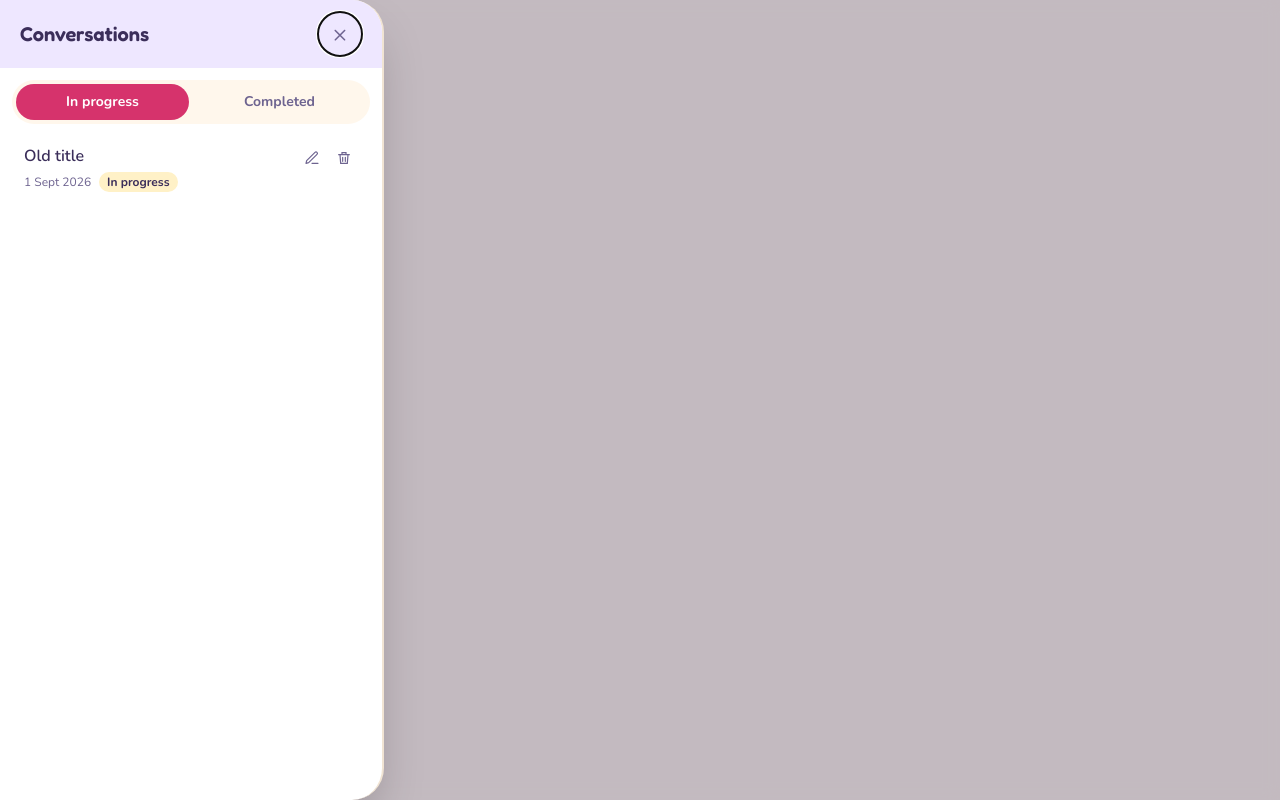
renaming › saves the new title and shows the one the server stored
Click the button named "Rename “Old title”".
click(312, 158)  # box [298,144,326,172]
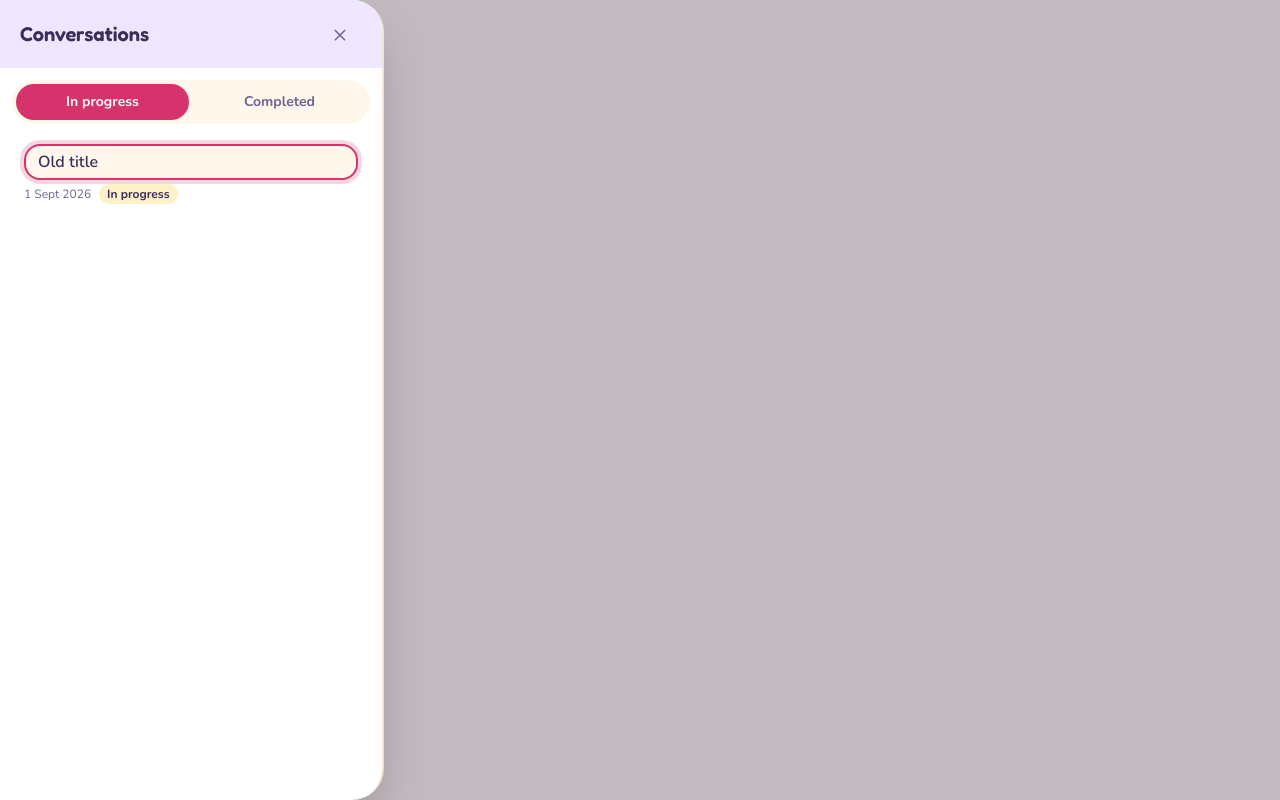
Replace the text in the field named "Conversation title" with "  New title  " at (191,162), box [24,144,358,180]
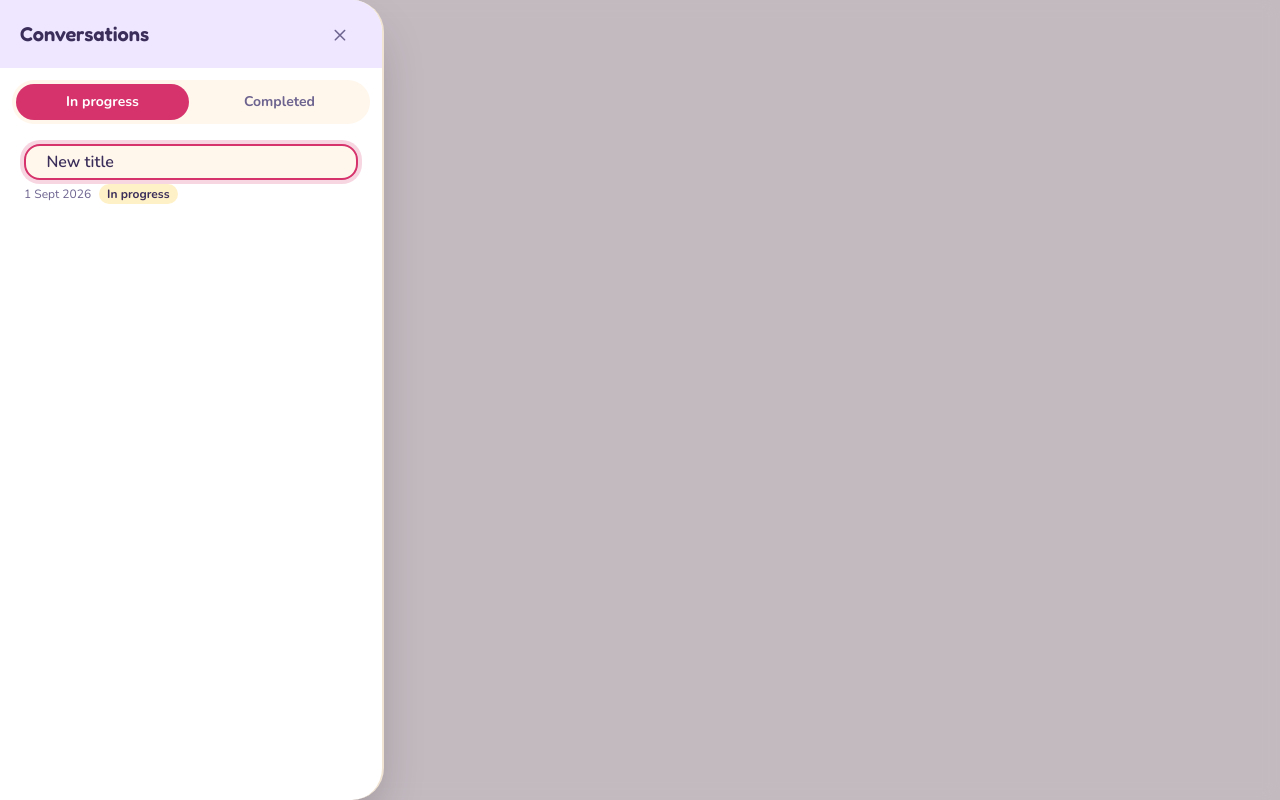
Press Enter
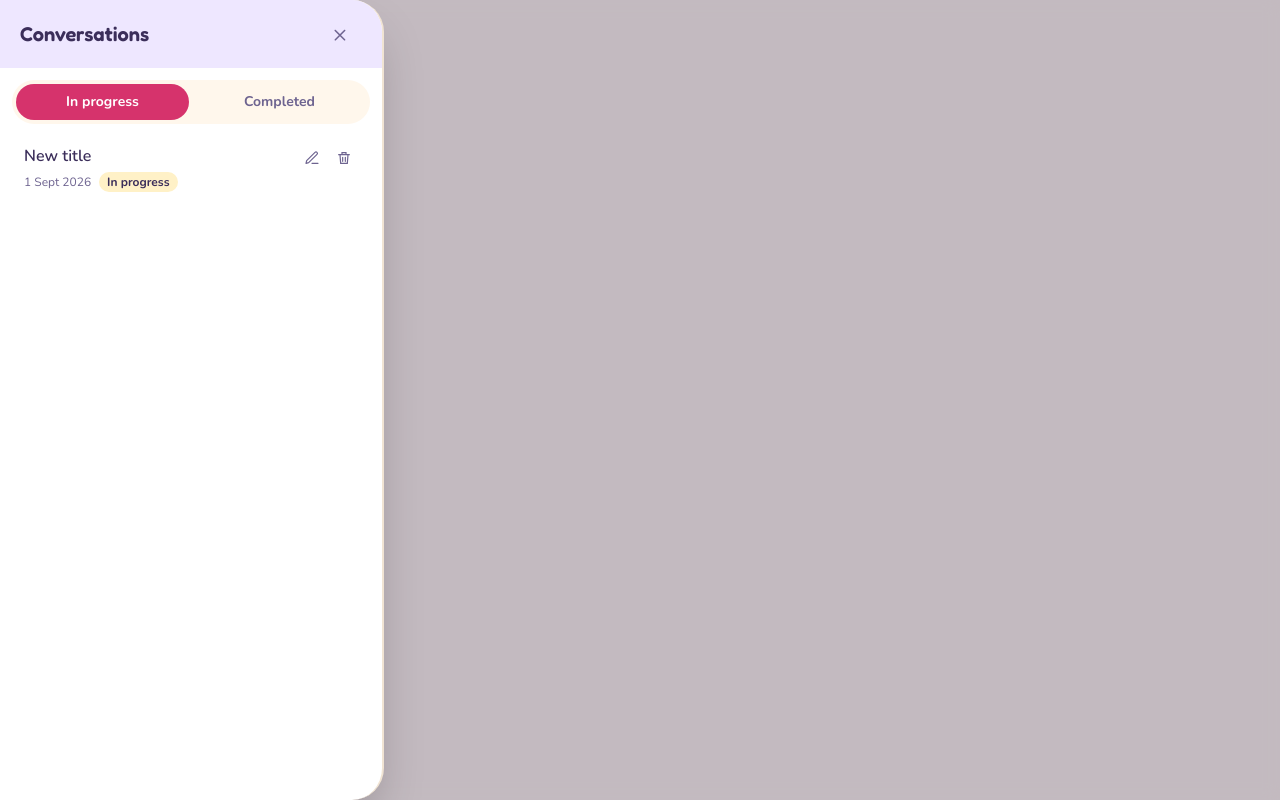
Check: the button "New title" is shown, box [24,144,294,168]
